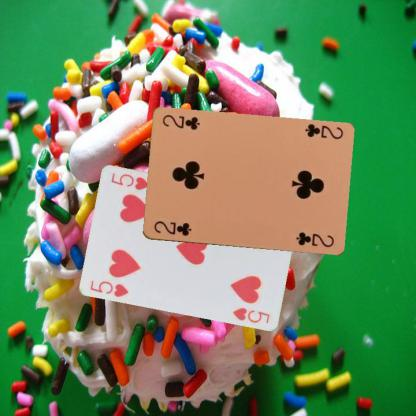2c: (302, 121, 344, 141), (151, 219, 192, 238)
5h: (88, 277, 130, 298)
